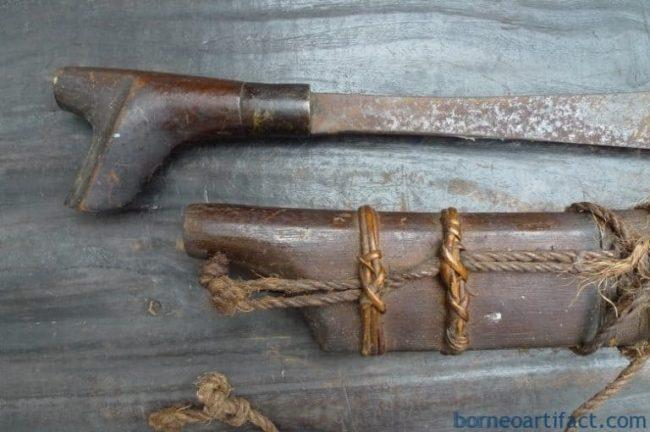facao: (43, 65, 650, 186)
